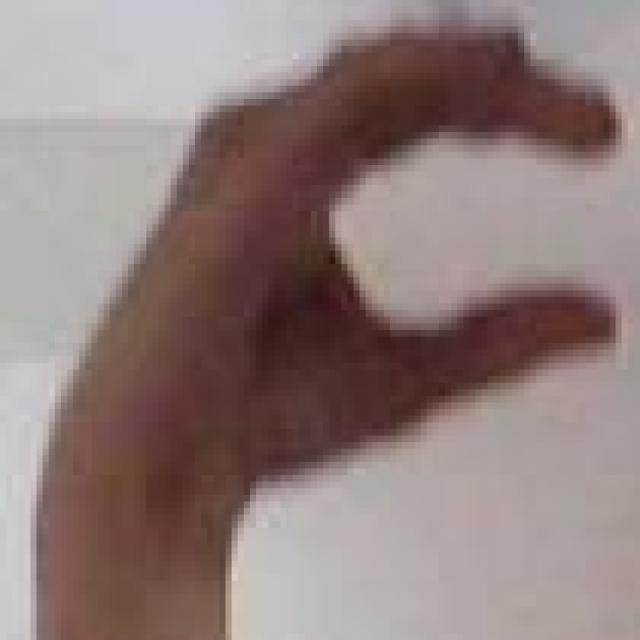C: (36, 13, 638, 501)
